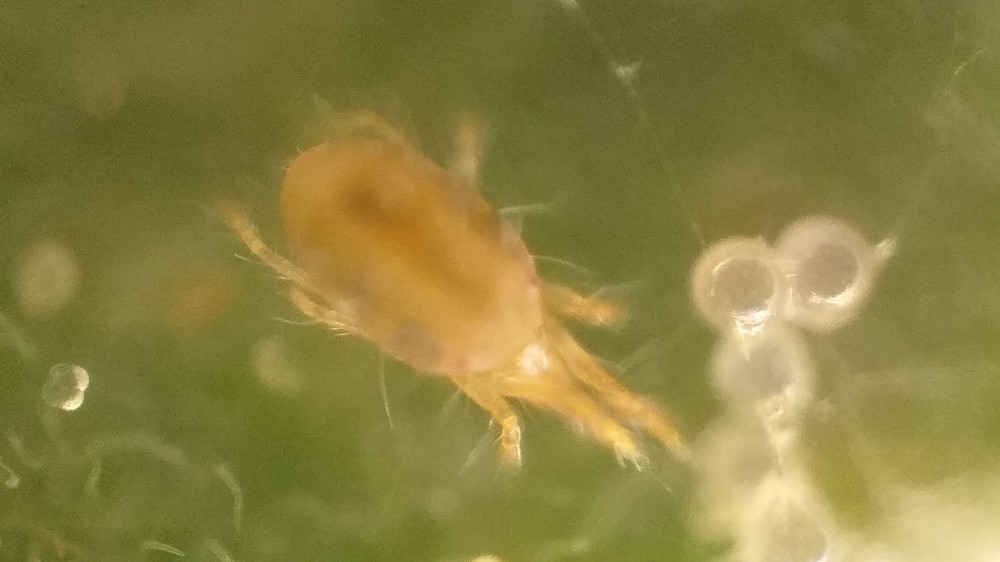Aracnido Rojo: (219, 92, 694, 509)
